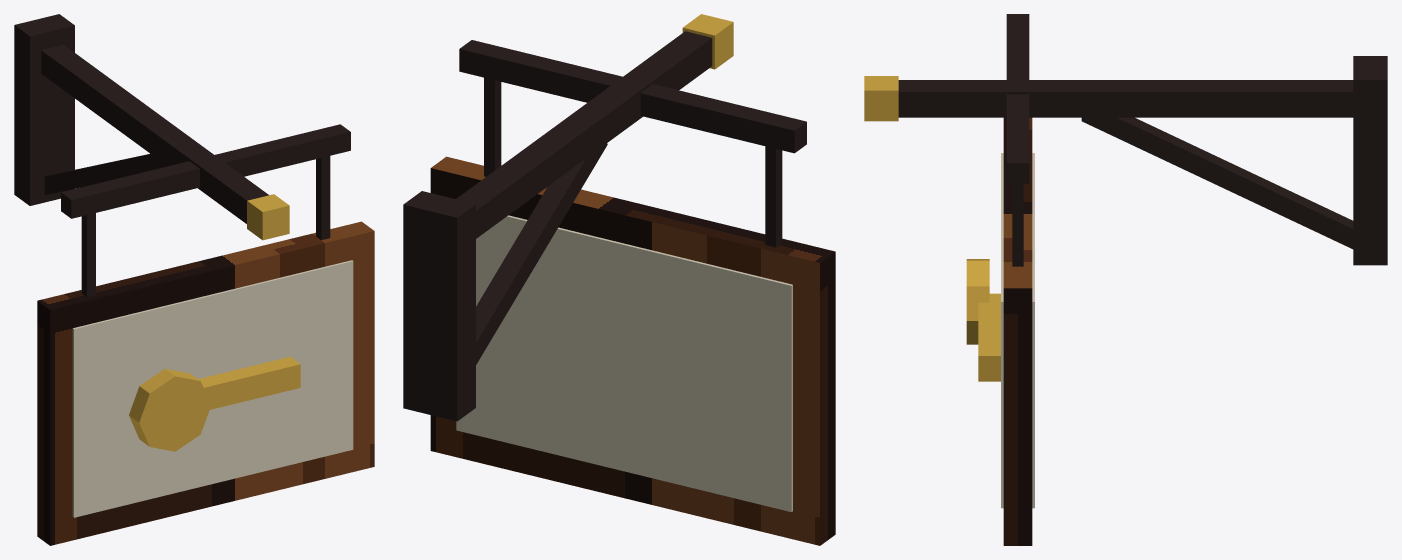
File: hanging_sign_key.glb
3 views of the same model, side by side, from view 1: azimuth 30°, elevation 25°; view 2: azimuth 150°, elevation 25°; view 3: azimuth 270°, elevation 25° (orthographic). The views are drawn at different scales.
Parts seen in each view (by area): view 1: hanging_sign_key; view 2: hanging_sign_key; view 3: hanging_sign_key.
Boxes of the visible parts, bbox=[...] form: hanging_sign_key: bbox=[14, 14, 374, 545]; hanging_sign_key: bbox=[403, 14, 835, 545]; hanging_sign_key: bbox=[864, 14, 1387, 545].
Bounding box in the file's own units: 0.72 × 0.76 × 0.92.
2 materials, 1 textured.
